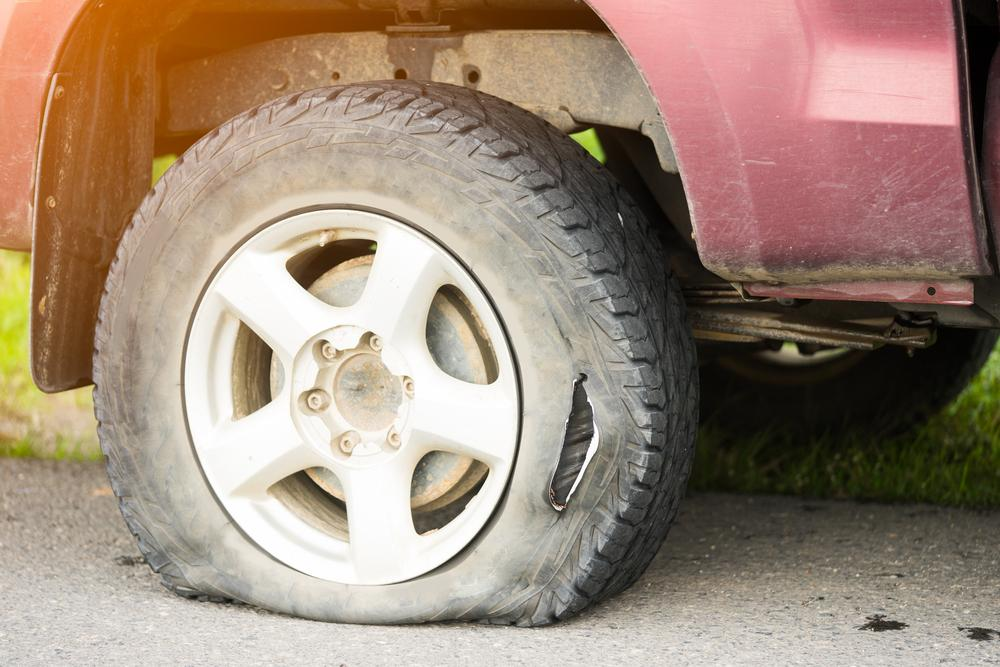tire flat: (89, 77, 706, 629)
